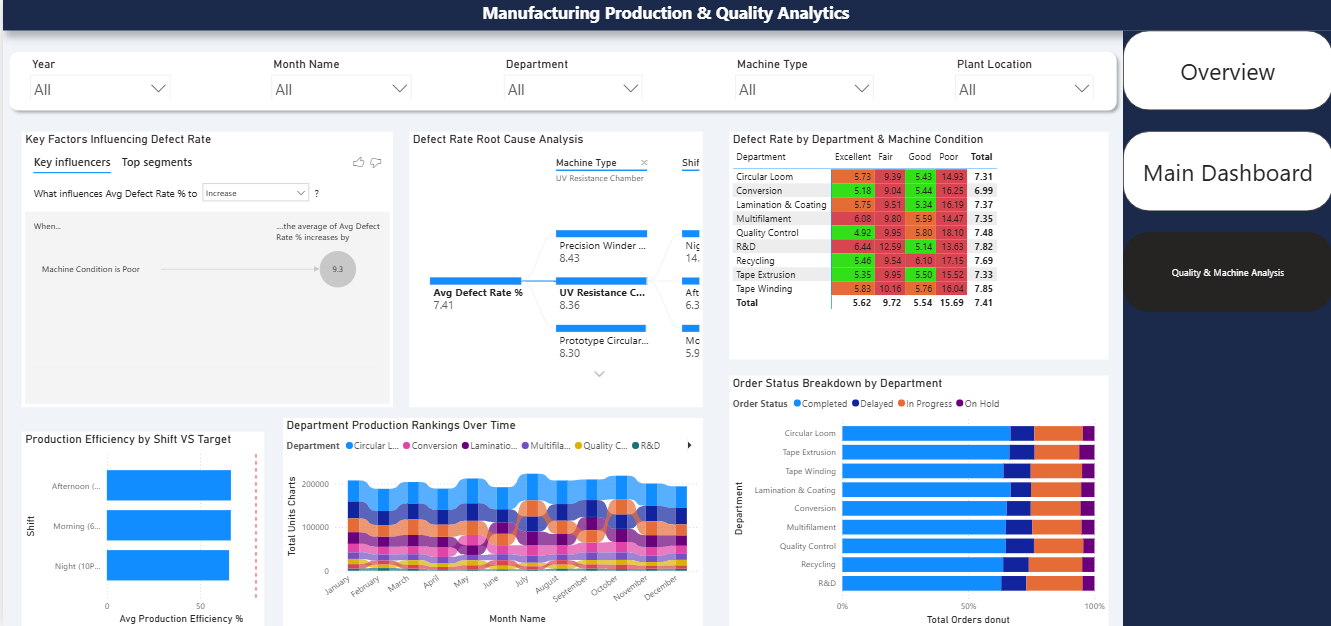

What the dashboard file says about the page in this screenshot:
{"tool":"powerbi","page":{"name":"Quality & Machine Analysis","canvas":[1900,900],"ordinal":2},"visuals":[{"type":"textbox","box":[0,0,1900,46.8],"z":0},{"type":"shape","box":[0,68,1600,102],"z":1000},{"type":"keyDriversVisual","title":"Key Factors Influencing Defect Rate","fields":{"Target":["Measure.Avg Defect Rate %"],"ExplainBy":["Lohia_Corp_Data.Machine Condition","Lohia_Corp_Data.Raw Material","Lohia_Corp_Data.Department","Lohia_Corp_Data.Shift"]},"box":[27.4,190.3,530.6,393.5],"z":2000},{"type":"decompositionTreeVisual","title":" Defect Rate Root Cause Analysis","fields":{"Analyze":["Measure.Avg Defect Rate %"],"ExplainBy":["Lohia_Corp_Data.Machine Type","Lohia_Corp_Data.Shift","Lohia_Corp_Data.Raw Material","Lohia_Corp_Data.Machine Condition","Lohia_Corp_Data.Department"]},"box":[580.6,190.3,419.4,393.5],"z":3000},{"type":"pivotTable","title":"Defect Rate by Department & Machine Condition","fields":{"Rows":["Lohia_Corp_Data.Department"],"Columns":["Lohia_Corp_Data.Machine Condition"],"Values":["Measure.Avg Defect Rate %"]},"box":[1037.1,190.3,541.9,325.8],"z":4000},{"type":"ribbonChart","title":"Department Production Rankings Over Time","fields":{"Category":["Lohia_Corp_Data.Month Name"],"Y":["Measure.Total Units Charts"],"Series":["Lohia_Corp_Data.Department"]},"box":[400,600,600,300],"z":5000},{"type":"hundredPercentStackedBarChart","title":"Order Status Breakdown by Department","fields":{"Category":["Lohia_Corp_Data.Department"],"Y":["Measure.Total Orders donut"],"Series":["Lohia_Corp_Data.Order Status"]},"box":[1037.1,538.7,541.9,361.3],"z":6000},{"type":"clusteredBarChart","title":"Production Efficiency by Shift VS Target","fields":{"Category":["Lohia_Corp_Data.Shift"],"Y":["Measure.Avg Production Efficiency %"]},"box":[27.4,619.4,346.8,280.6],"z":7000},{"type":"slicer","fields":{"Values":["Lohia_Corp_Data.Year"]},"box":[28,78,220,66],"z":8000},{"type":"slicer","fields":{"Values":["Lohia_Corp_Data.Month Name"]},"box":[374,78,220,66],"z":9000},{"type":"slicer","fields":{"Values":["Lohia_Corp_Data.Department"]},"box":[706,78,218,66],"z":10000},{"type":"slicer","fields":{"Values":["Lohia_Corp_Data.Machine Type"]},"box":[1036,78,218,66],"z":11000},{"type":"slicer","fields":{"Values":["Lohia_Corp_Data.Plant Location"]},"box":[1350,78,218,66],"z":12000},{"type":"shape","box":[1600,46.8,300,853.2],"z":13000},{"type":"pageNavigator","box":[1600,46,300,404],"z":14000}]}

Visuals, with their boxes in screenshot pixels (x1, y1, x2, y2), scaled from the page's 1900x900 canvas onto the 1331x626 screenshot:
textbox: detection(0, 0, 1330, 33)
shape: detection(0, 47, 1121, 118)
"Key Factors Influencing Defect Rate" keyDriversVisual: detection(19, 132, 391, 406)
" Defect Rate Root Cause Analysis" decompositionTreeVisual: detection(407, 132, 701, 406)
"Defect Rate by Department & Machine Condition" pivotTable: detection(727, 132, 1106, 359)
"Department Production Rankings Over Time" ribbonChart: detection(280, 417, 701, 625)
"Order Status Breakdown by Department" hundredPercentStackedBarChart: detection(727, 375, 1106, 625)
"Production Efficiency by Shift VS Target" clusteredBarChart: detection(19, 431, 262, 625)
slicer - Lohia_Corp_Data.Year: detection(20, 54, 174, 100)
slicer - Lohia_Corp_Data.Month Name: detection(262, 54, 416, 100)
slicer - Lohia_Corp_Data.Department: detection(495, 54, 647, 100)
slicer - Lohia_Corp_Data.Machine Type: detection(726, 54, 878, 100)
slicer - Lohia_Corp_Data.Plant Location: detection(946, 54, 1098, 100)
shape: detection(1121, 33, 1330, 625)
pageNavigator: detection(1121, 32, 1330, 313)
